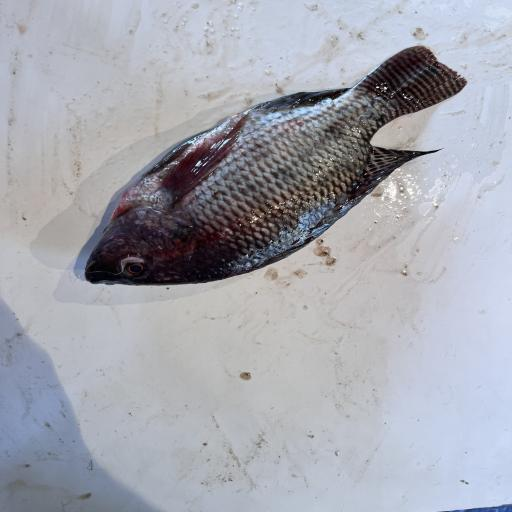Tilapia: (84, 45, 467, 287)
